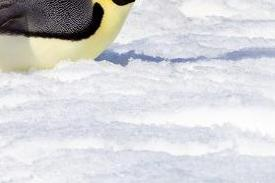Emperor Penguin: (0, 0, 212, 86)
